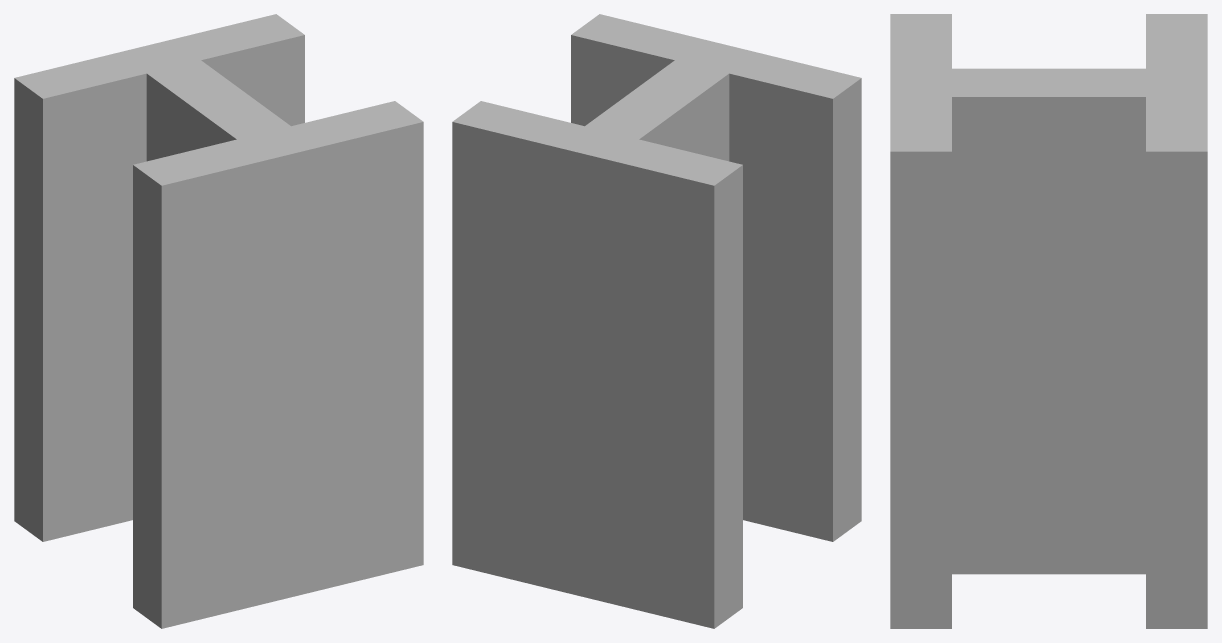
The model's file is SM_ResourceSteel.FBX.
The picture shows the model from 3 angles, left to right: view 1: azimuth 30°, elevation 25°; view 2: azimuth 150°, elevation 25°; view 3: azimuth 270°, elevation 25°; orthographic projection. The views are drawn at different scales.
Parts seen in each view (by area): view 1: SM_Metal; view 2: SM_Metal; view 3: SM_Metal.
Part boxes in pixels (<box>): SM_Metal: <box>14,14,423,628</box>; SM_Metal: <box>452,14,861,628</box>; SM_Metal: <box>890,14,1207,628</box>.
Bounding box in the file's own units: 7.89 × 7.68 × 12.75.
